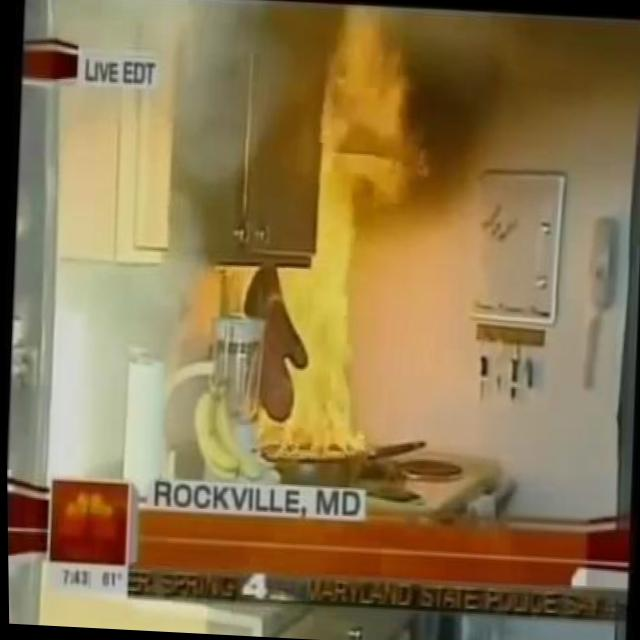fire: (194, 0, 432, 464)
